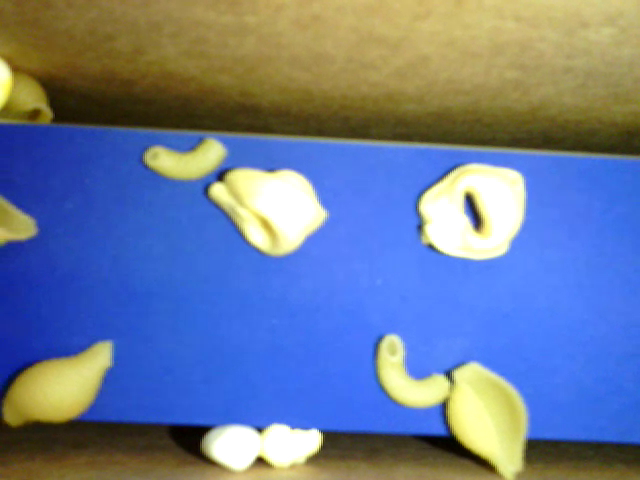elbow: (377, 333, 453, 409), (138, 137, 228, 184)
shell: (1, 337, 115, 434), (446, 361, 528, 477), (1, 72, 56, 129), (1, 194, 40, 248)
tortellini: (414, 159, 527, 262), (208, 165, 332, 258)
